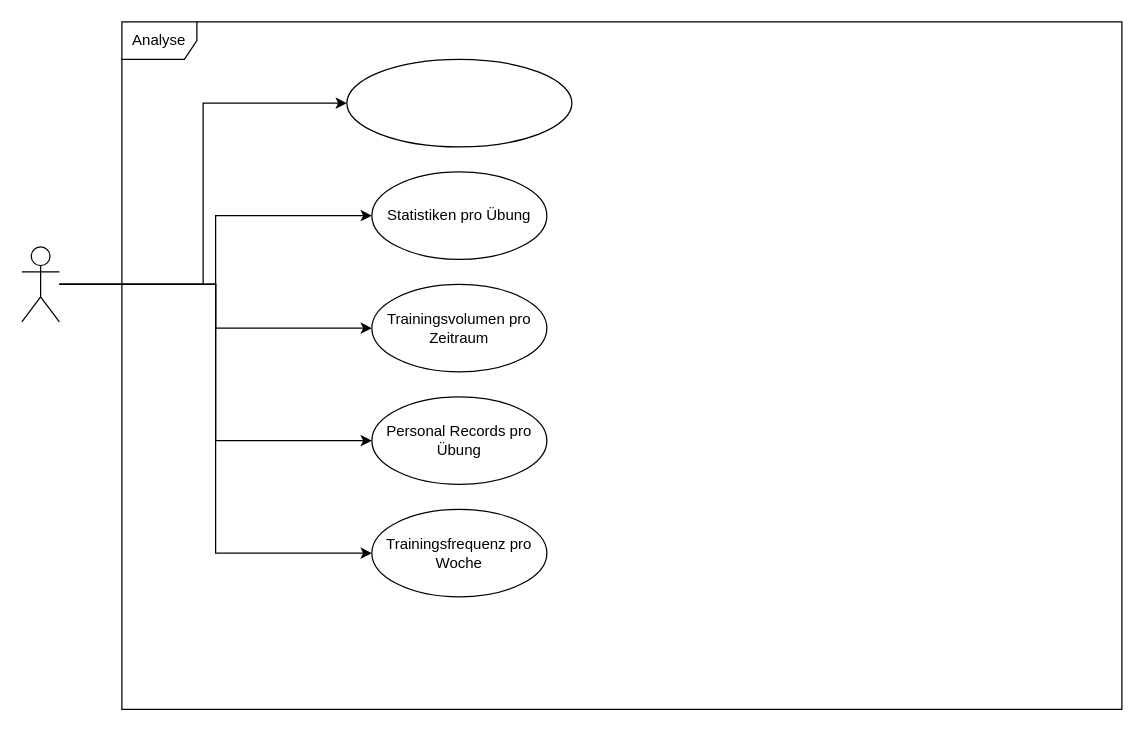
The diagram is 1144 pixels wide and 731 high, and some of its shapes have lost their labels. Each missing label, with the centre of its shape:
Actor: the point at 40,284
Liste aller Workouts anzeigen (filterbar nach Datum): the point at 459,102
